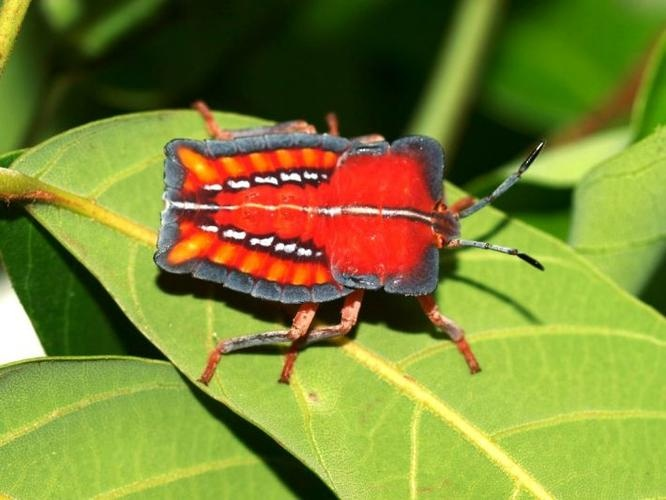Stink_Bug: (166, 147, 512, 334)
